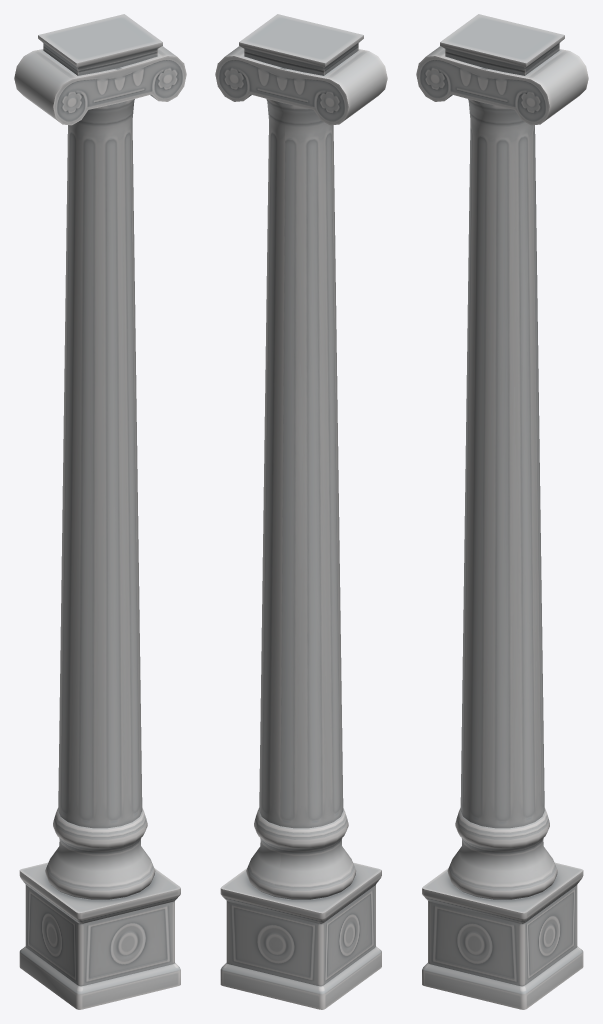
Rendered from PropColumn01_2.FBX.
3 views of the same model, side by side, from view 1: azimuth 30°, elevation 25°; view 2: azimuth 150°, elevation 25°; view 3: azimuth 330°, elevation 25° (orthographic).
Parts seen in each view (by area): view 1: PropColumn01_2; view 2: PropColumn01_2; view 3: PropColumn01_2.
Boxes of the visible parts, x1,y1,x2,y2 form: PropColumn01_2: (14,14,186,1009); PropColumn01_2: (215,14,387,1009); PropColumn01_2: (416,14,588,1009).
Size of what is drawn, in the model's own units: 1.16 by 7.75 by 0.9.
